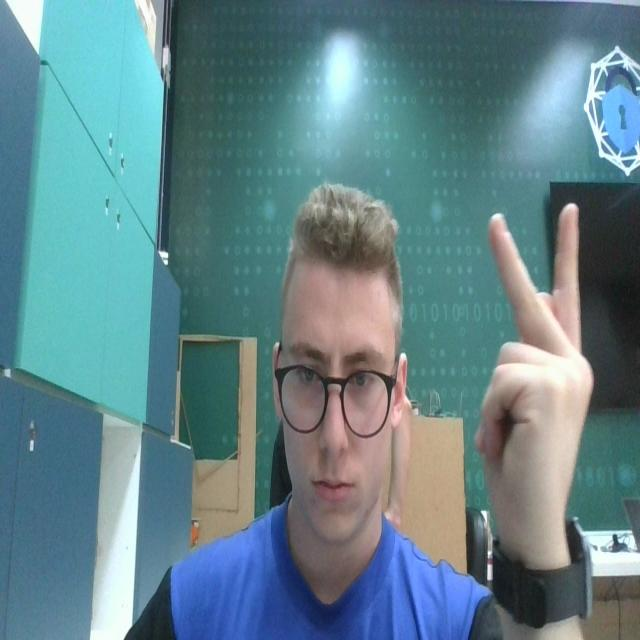K: (470, 193, 597, 548)
